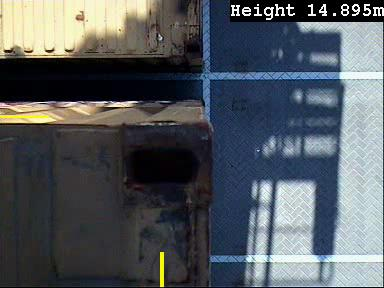groundmarker_2: (185, 88, 242, 115), (184, 243, 241, 269)
